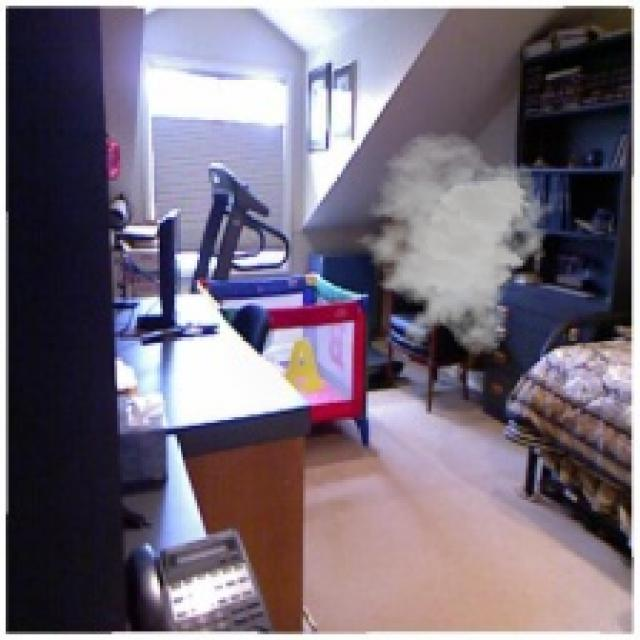smoke: (346, 132, 554, 357)
